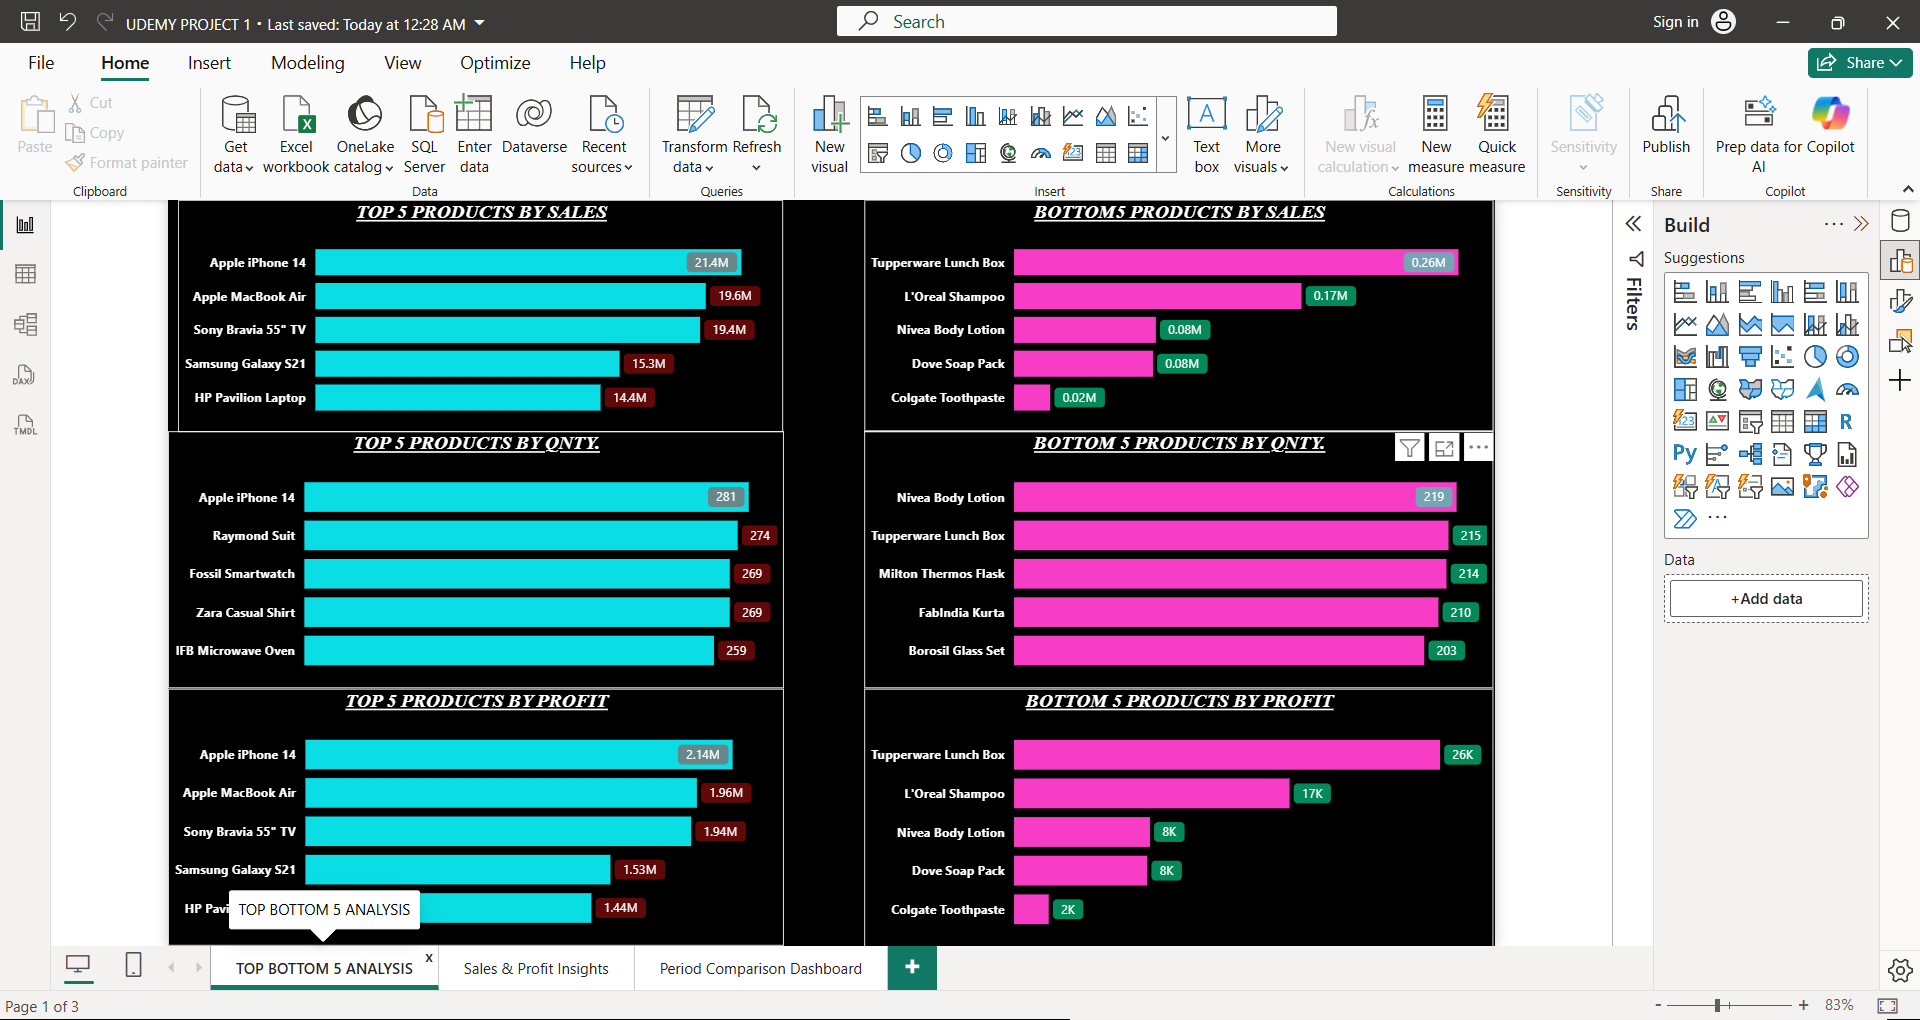

Layout of this report page (visuals, bound fields, positions):
{"tool":"powerbi","page":{"name":"TOP BOTTOM 5 ANALYSIS","canvas":[1280,720],"ordinal":0},"visuals":[{"type":"barChart","title":"TOP 5 PRODUCTS BY SALES","fields":{"Category":["Dim Product.Product Name"],"Y":["Sum(FACT TABLE.NET SALES)"]},"box":[10.1,0,584.3,223.6],"z":0},{"type":"barChart","title":"BOTTOM5 PRODUCTS BY SALES","fields":{"Category":["Dim Product.Product Name"],"Y":["Sum(FACT TABLE.NET SALES)"]},"box":[672.3,0,607.4,223.6],"z":1000},{"type":"barChart","title":"TOP 5 PRODUCTS BY QNTY.","fields":{"Category":["Dim Product.Product Name"],"Y":["Sum(FACT TABLE.Units Sold)"]},"box":[0,223.6,594.4,248.2],"z":2000},{"type":"barChart","title":"BOTTOM 5 PRODUCTS BY QNTY.","fields":{"Category":["Dim Product.Product Name"],"Y":["Sum(FACT TABLE.Units Sold)"]},"box":[672.3,223.6,607.4,248.2],"z":3000},{"type":"barChart","title":"TOP 5 PRODUCTS BY PROFIT","fields":{"Category":["Dim Product.Product Name"],"Y":["Sum(FACT TABLE.PROFIT)"]},"box":[0,471.8,594.4,248.2],"z":4000},{"type":"barChart","title":"BOTTOM 5 PRODUCTS BY PROFIT","fields":{"Category":["Dim Product.Product Name"],"Y":["Sum(FACT TABLE.PROFIT)"]},"box":[672.3,471.8,607.4,249.6],"z":5000}]}

Visuals, with their boxes on the page's 1280x720 design canvas (x1, y1, x2, y2). These are canvas units, not pixel positions in the 1920x1020 screenshot, which may show the page scaled, cropped or inside an application window:
"TOP 5 PRODUCTS BY SALES" barChart: <box>10,0,594,224</box>
"BOTTOM5 PRODUCTS BY SALES" barChart: <box>672,0,1280,224</box>
"TOP 5 PRODUCTS BY QNTY." barChart: <box>0,224,594,472</box>
"BOTTOM 5 PRODUCTS BY QNTY." barChart: <box>672,224,1280,472</box>
"TOP 5 PRODUCTS BY PROFIT" barChart: <box>0,472,594,720</box>
"BOTTOM 5 PRODUCTS BY PROFIT" barChart: <box>672,472,1280,721</box>
